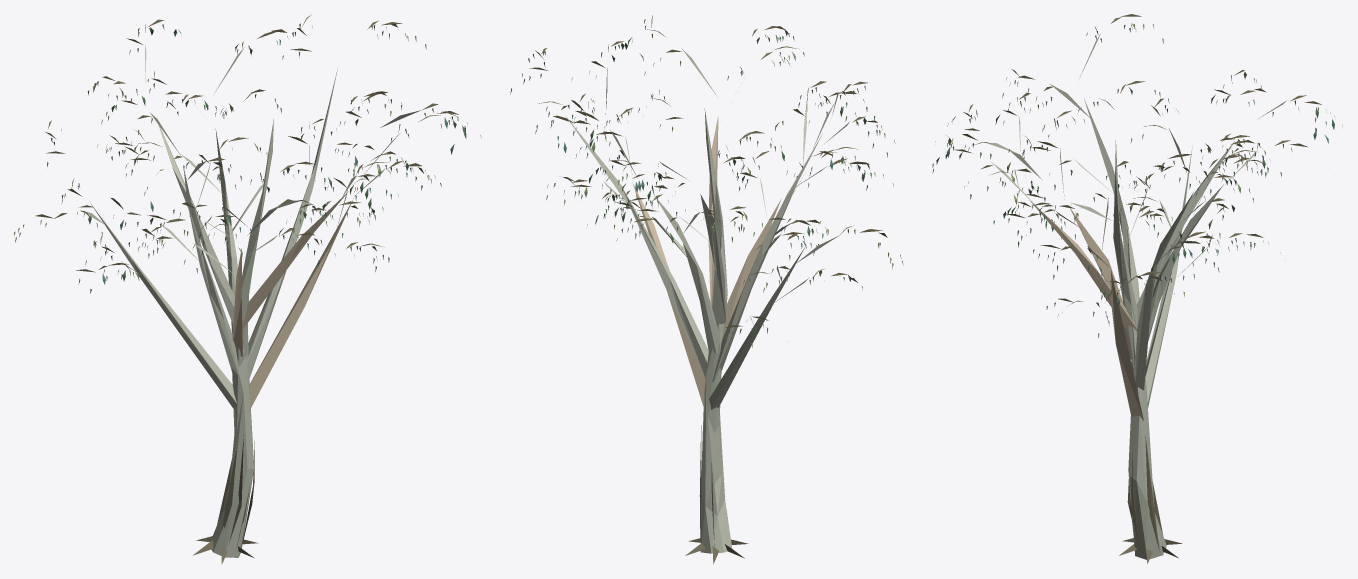
The model's file is eucalyptus-lod2000.glb.
The picture shows the model from 3 angles, left to right: view 1: azimuth 30°, elevation 25°; view 2: azimuth 150°, elevation 25°; view 3: azimuth 270°, elevation 25°; orthographic projection. The views are drawn at different scales.
Parts seen in each view (by area): view 1: eucalyptus-lod2000; view 2: eucalyptus-lod2000; view 3: eucalyptus-lod2000.
Boxes of the visible parts, x1,y1,x2,y2 form: eucalyptus-lod2000: [14, 14, 481, 564]; eucalyptus-lod2000: [510, 15, 903, 564]; eucalyptus-lod2000: [932, 14, 1342, 563].
Bounding box in the file's own units: 12.12 × 14.42 × 11.06.
